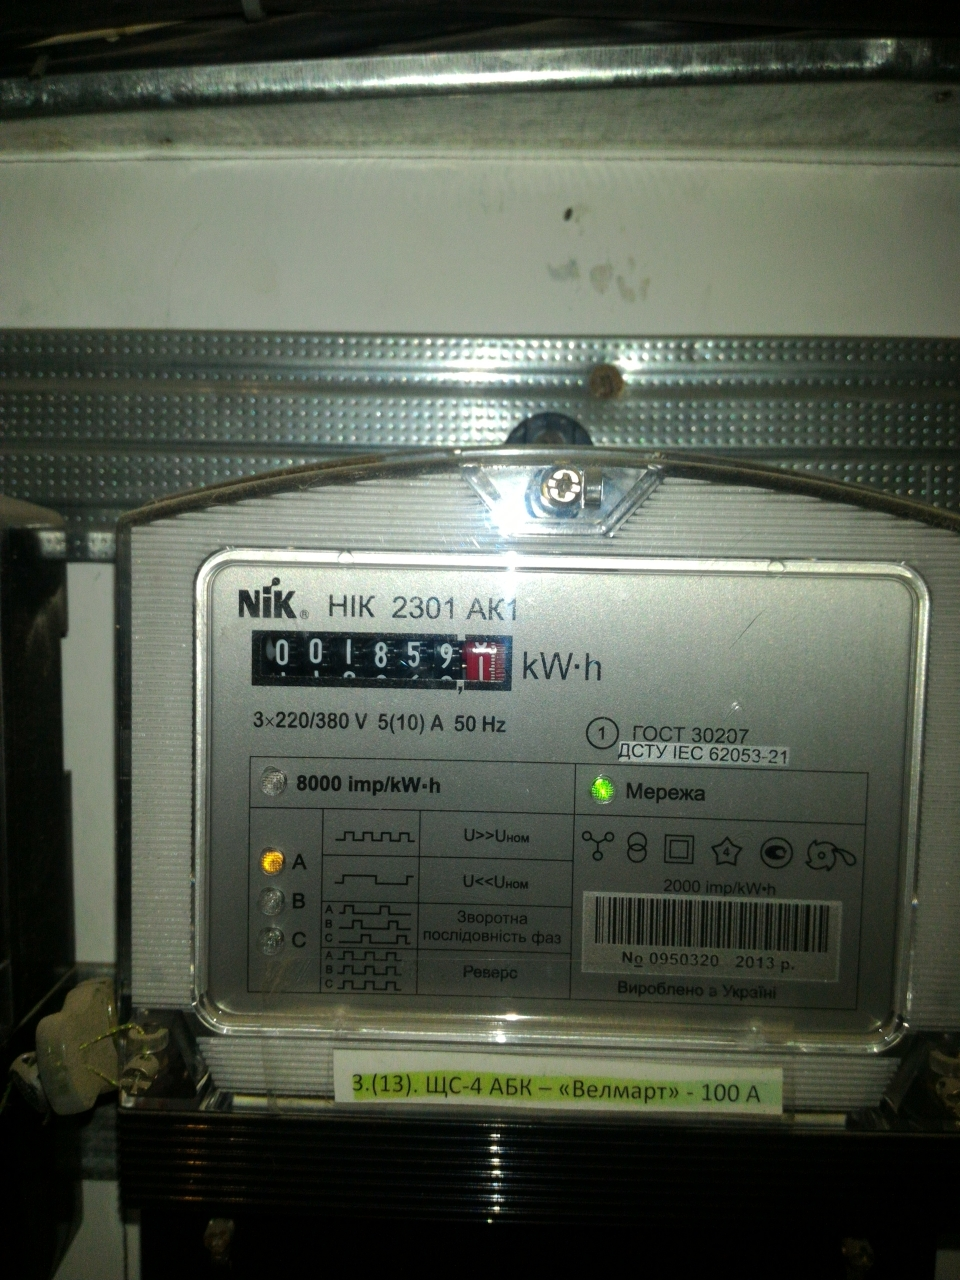0: (273, 635, 292, 668), (307, 635, 324, 666)
1: (342, 635, 356, 667), (474, 653, 487, 683)
5: (403, 638, 422, 670)
8: (371, 639, 390, 670)
9: (436, 640, 455, 671)
screen: (242, 620, 522, 700)
